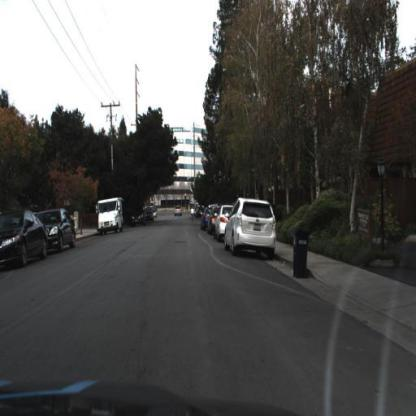biker: (190, 207, 196, 223)
car: (224, 197, 278, 256), (2, 210, 50, 267), (40, 206, 77, 253), (96, 198, 125, 236), (216, 206, 233, 244), (129, 207, 148, 230), (129, 207, 148, 229), (143, 208, 157, 227), (174, 206, 185, 216)
truck: (98, 197, 127, 233)
